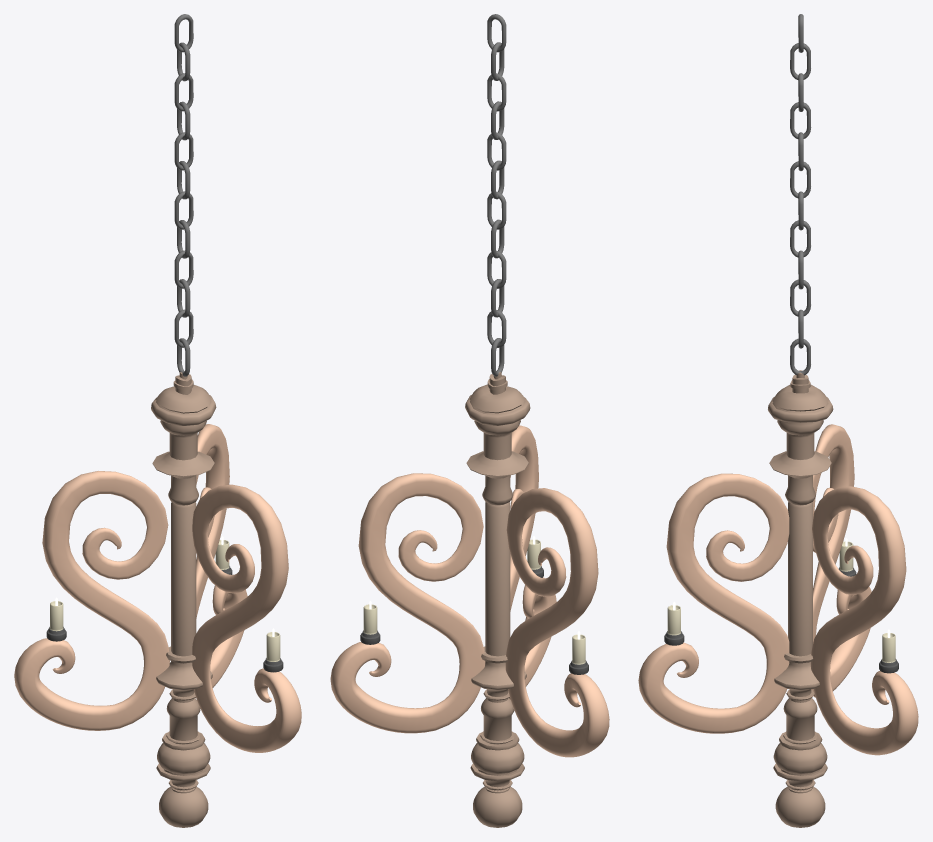
File: LÁMPARA.fbx
The picture shows the model from 3 angles, left to right: view 1: azimuth 30°, elevation 25°; view 2: azimuth 150°, elevation 25°; view 3: azimuth 270°, elevation 25°; orthographic projection.
Visible parts, largest first — view 1: BezierCurve, Cylinder, Torus.003, Cylinder.001; view 2: BezierCurve, Cylinder, Torus.003, Cylinder.001; view 3: BezierCurve, Cylinder, Torus.003, Cylinder.001.
Part boxes in pixels (x1,y1,x2,y2): BezierCurve: (14, 424, 301, 752); Cylinder: (151, 372, 216, 827); Torus.003: (174, 14, 193, 376); Cylinder.001: (46, 536, 283, 672); BezierCurve: (330, 425, 609, 757); Cylinder: (465, 372, 530, 827); Torus.003: (487, 14, 506, 376); Cylinder.001: (360, 536, 588, 674); BezierCurve: (638, 424, 918, 755); Cylinder: (768, 370, 833, 827); Torus.003: (790, 14, 811, 375); Cylinder.001: (664, 538, 898, 673).
Bounding box in the file's own units: 219 × 670 × 210.
